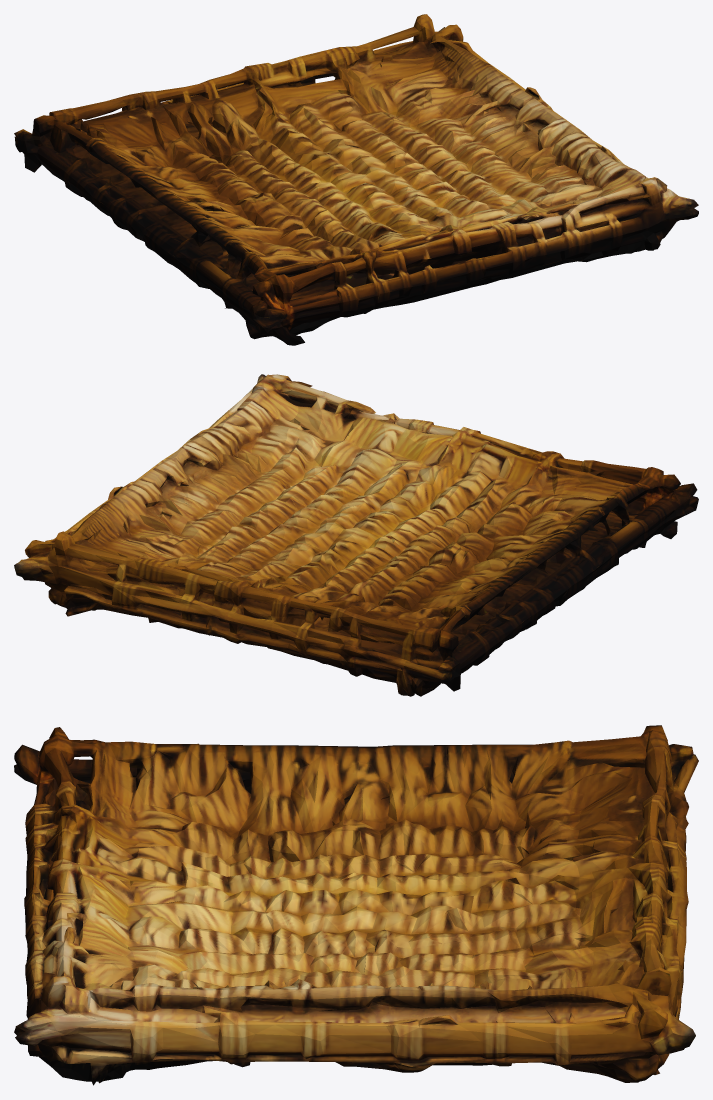
The model's file is banana-leaf-sleeping-mat-vintage.jpeg.glb.
3 views of the same model, one above another, from view 1: azimuth 30°, elevation 25°; view 2: azimuth 150°, elevation 25°; view 3: azimuth 270°, elevation 25° (orthographic). The views are drawn at different scales.
Parts seen in each view (by area): view 1: world; view 2: world; view 3: world.
Part boxes in pixels (x1,y1,x2,y2): world: (14, 14, 698, 345); world: (14, 374, 698, 696); world: (14, 725, 698, 1085).
Size of the model in its own units: 0.9985 by 0.1789 by 1.
1 material, 1 textured.
